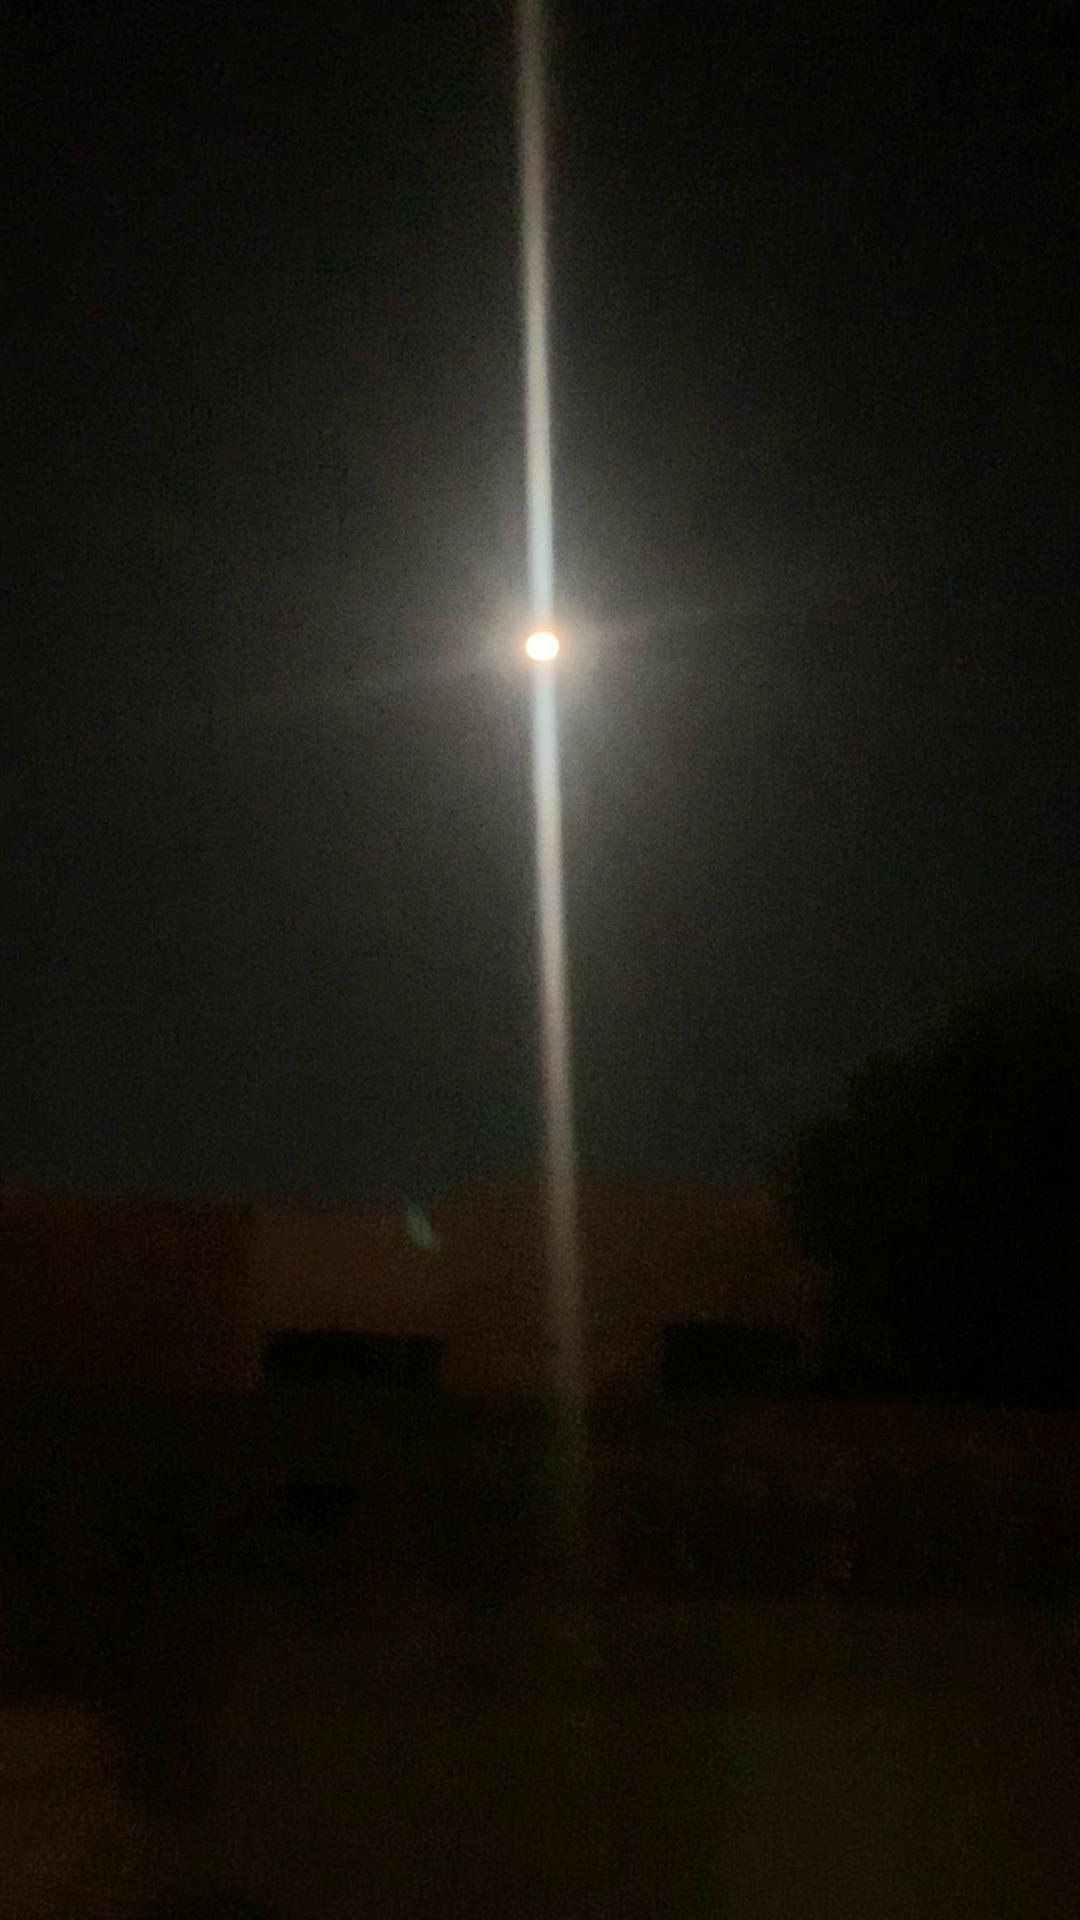moon: (487, 596, 592, 695)
